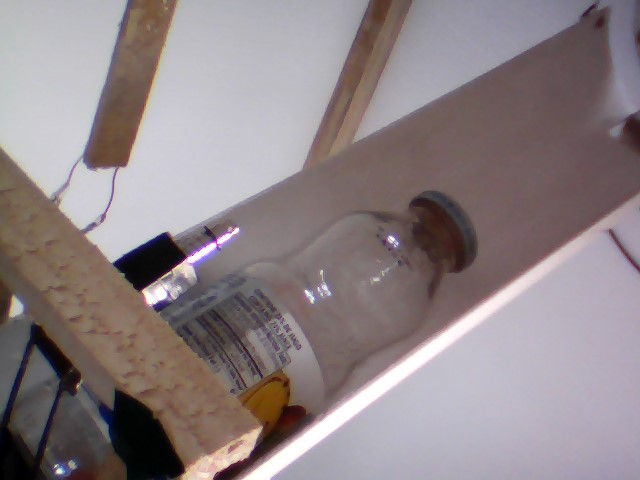vidrio: (175, 186, 488, 429)
